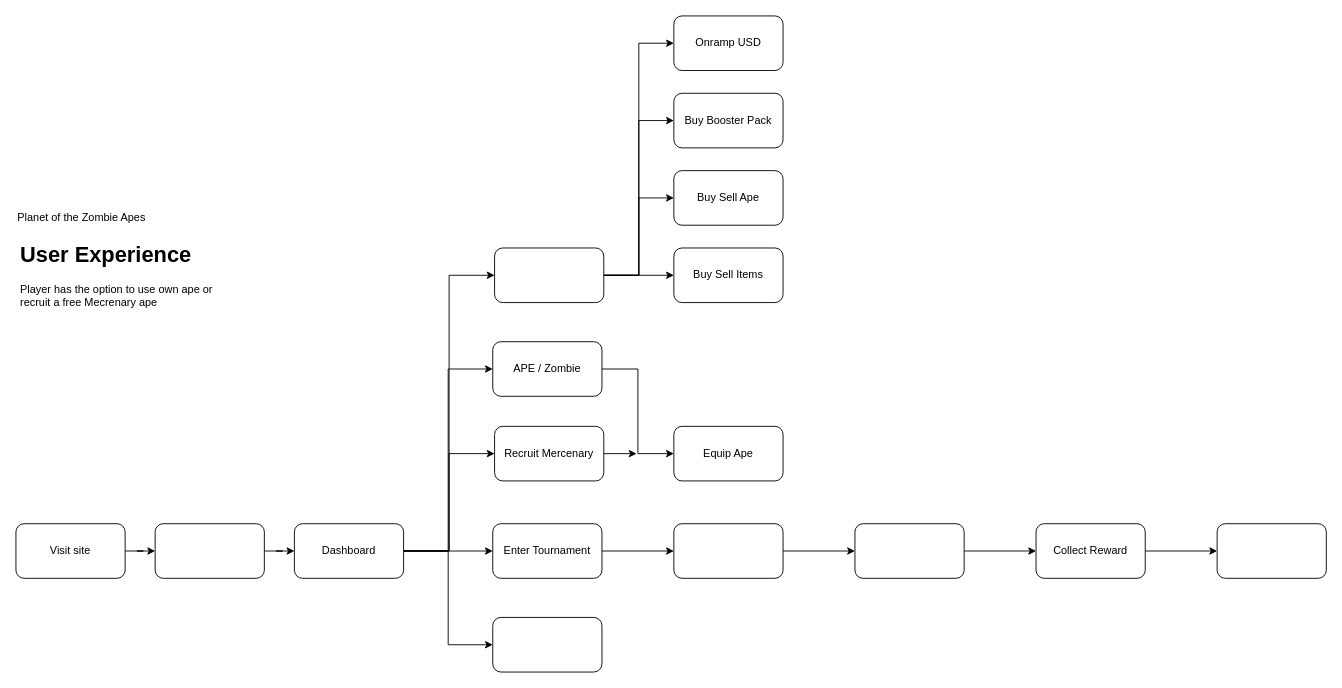
Some shapes in this 1342 by 688 pixel diagram are drawn without their labels. Here are the shapes that lost their labels. From the top down, the centre of each, then its label:
point 549,275: Market
point 209,550: Login
point 728,550: Lock Entry Loan
point 909,550: Play Rounds
point 1271,550: Level Up
point 547,644: Quick Game
